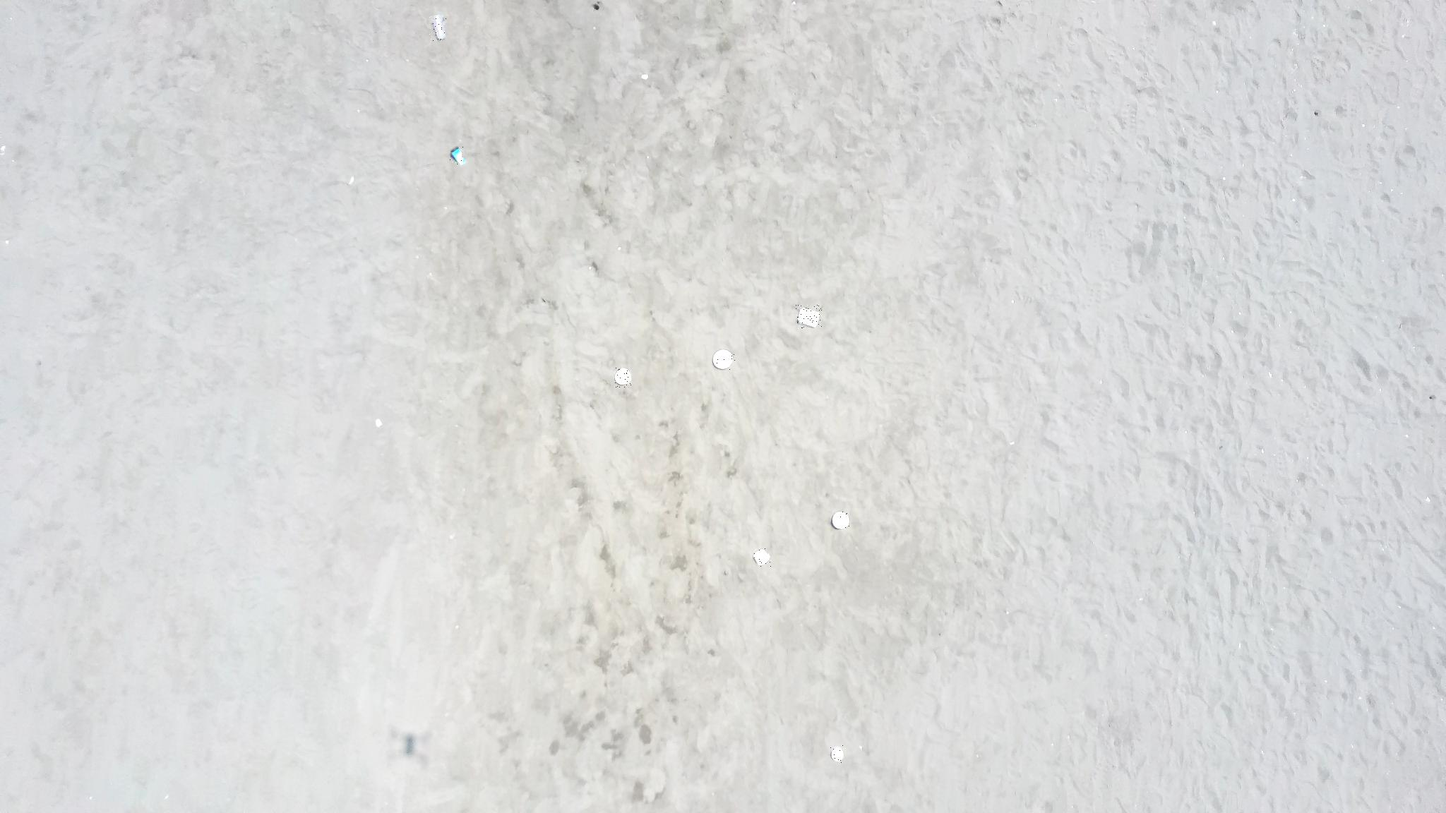Garbage: (798, 306, 820, 327), (712, 350, 733, 369), (430, 13, 445, 39), (831, 511, 848, 529), (614, 368, 631, 386), (753, 549, 770, 565), (450, 147, 466, 164), (831, 745, 844, 762)
